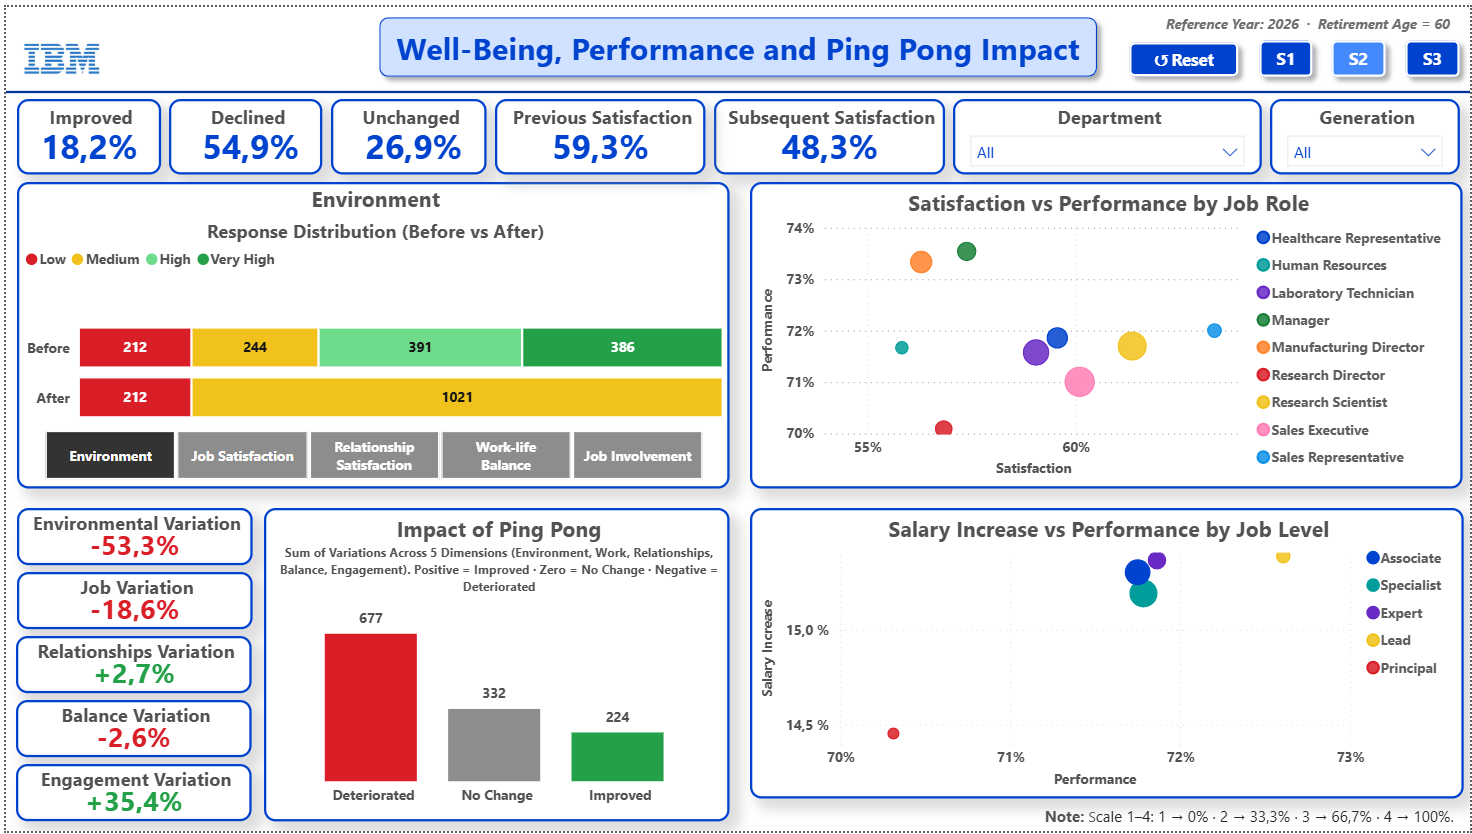

The dashboard page shown, as its layout file describes it:
{"tool":"powerbi","page":{"name":"Well-Being & Ping Pong","canvas":[1280,720],"ordinal":1},"visuals":[{"type":"actionButton","title":"S1","box":[1086.7,20,64.4,50],"z":0},{"type":"actionButton","title":"S1","box":[1150,20,65.6,50],"z":1000},{"type":"actionButton","title":"S1","box":[1214.4,20,65.6,50],"z":2000},{"type":"shape","box":[0,68,1280,12.2],"z":3000},{"type":"image","box":[8.9,5.6,80,80],"z":4000},{"type":"shape","box":[317.2,0,645.6,70],"z":5000},{"type":"actionButton","box":[973.3,22.2,113.3,47.8],"z":6000},{"type":"textbox","box":[996.7,0,283.3,28.9],"z":7000},{"type":"card","title":"Subsequent Satisfaction","fields":{"Values":["Medidas.Satisfação Depois %"]},"box":[618.6,80.4,202,66.1],"z":11000},{"type":"card","title":"Improved","fields":{"Values":["Medidas.% Melhoraram"]},"box":[9.5,80,125.8,66],"z":12000},{"type":"card","title":"Declined","fields":{"Values":["Medidas.% Pioraram"]},"box":[142.5,80,134.4,66],"z":13000},{"type":"card","title":"Unchanged","fields":{"Values":["Medidas.% Sem Alteração"]},"box":[284,80,136.3,66],"z":14000},{"type":"slicer","title":"Department","fields":{"Values":["d_department.department_name"]},"box":[827.7,80.4,269.9,66.1],"z":15000},{"type":"slicer","title":"Generation","fields":{"Values":["d_employee.generation"]},"box":[1104.8,80.4,166.3,66.1],"z":16000},{"type":"textbox","box":[903.3,693.3,376.7,26.7],"z":17000},{"type":"hundredPercentStackedBarChart","fields":{"Category":["f_satisfaction_history.survey_type_en"],"Series":["f_satisfaction_history.environment_satisfaction_label"],"Y":["Medidas.Respostas Ping Pong"]},"box":[9.2,153.3,623.4,267.8],"z":18000},{"type":"slicer","fields":{"Values":["Métrica.Métrica"]},"box":[8.3,363.9,624.3,51.7],"z":19000},{"type":"card","title":"Environmental Variation","fields":{"Values":["_Measures.Delta Ambiente % 2"]},"box":[9.7,437.9,206,50],"z":20000},{"type":"card","title":"Job Variation","fields":{"Values":["_Measures.Delta Trabalho % 2"]},"box":[9.7,494,206,50],"z":21000},{"type":"card","title":"Relationships Variation","fields":{"Values":["_Measures.Delta Relações % 2"]},"box":[8.6,550.1,206,50],"z":22000},{"type":"card","title":"Balance Variation","fields":{"Values":["_Measures.Delta WLB % 2"]},"box":[8.6,606.2,206,50],"z":23000},{"type":"card","title":"Engagement Variation","fields":{"Values":["_Measures.Delta Envolvimento % 2"]},"box":[8.6,662.3,206,50],"z":24000},{"type":"scatterChart","title":"Satisfaction vs Performance by Job Role","fields":{"Category":["d_job_role.job_role_name"],"Series":["d_job_role.job_role_name"],"Size":["Medidas.Total Ativos"],"X":["Medidas.Satisfação Média %"],"Y":["Medidas.Performance Média %"]},"box":[650.2,153.3,623.4,267.8],"z":25000},{"type":"clusteredColumnChart","title":"Impact of Ping Pong","fields":{"Category":["vw_pingpong_improvements.improvement_status"],"Y":["Count(vw_pingpong_improvements.employee_number)"]},"box":[225.5,437.9,407.2,273.9],"z":26000},{"type":"card","title":"Previous Satisfaction","fields":{"Values":["Medidas.Satisfação Antes %"]},"box":[427.4,80.4,184.1,66.1],"z":28000},{"type":"scatterChart","title":"Salary Increase vs Performance by Job Level","fields":{"Series":["d_job_role.job_level_label"],"Size":["Medidas.Total Ativos"],"X":["Medidas.Performance Média %"],"Y":["Medidas.Aumento Salarial Médio"]},"box":[650.7,437.9,623.6,254],"z":29000}]}

Visuals, with their boxes in screenshot pixels (x1, y1, x2, y2), scaled from the page's 1280x720 canvas onto the 1472x834 screenshot:
"S1" actionButton: pyautogui.locateOnScreen(1250, 23, 1324, 81)
"S1" actionButton: pyautogui.locateOnScreen(1322, 23, 1398, 81)
"S1" actionButton: pyautogui.locateOnScreen(1397, 23, 1471, 81)
shape: pyautogui.locateOnScreen(0, 79, 1471, 93)
image: pyautogui.locateOnScreen(10, 6, 102, 99)
shape: pyautogui.locateOnScreen(365, 0, 1107, 81)
actionButton: pyautogui.locateOnScreen(1119, 26, 1250, 81)
textbox: pyautogui.locateOnScreen(1146, 0, 1471, 33)
"Subsequent Satisfaction" card: pyautogui.locateOnScreen(711, 93, 944, 170)
"Improved" card: pyautogui.locateOnScreen(11, 93, 156, 169)
"Declined" card: pyautogui.locateOnScreen(164, 93, 318, 169)
"Unchanged" card: pyautogui.locateOnScreen(327, 93, 483, 169)
"Department" slicer: pyautogui.locateOnScreen(952, 93, 1262, 170)
"Generation" slicer: pyautogui.locateOnScreen(1271, 93, 1462, 170)
textbox: pyautogui.locateOnScreen(1039, 803, 1471, 833)
hundredPercentStackedBarChart - f_satisfaction_history.survey_type_en x f_satisfaction_history.environment_satisfaction_label: pyautogui.locateOnScreen(11, 178, 727, 488)
slicer - Métrica.Métrica: pyautogui.locateOnScreen(10, 422, 727, 481)
"Environmental Variation" card: pyautogui.locateOnScreen(11, 507, 248, 565)
"Job Variation" card: pyautogui.locateOnScreen(11, 572, 248, 630)
"Relationships Variation" card: pyautogui.locateOnScreen(10, 637, 247, 695)
"Balance Variation" card: pyautogui.locateOnScreen(10, 702, 247, 760)
"Engagement Variation" card: pyautogui.locateOnScreen(10, 767, 247, 825)
"Satisfaction vs Performance by Job Role" scatterChart: pyautogui.locateOnScreen(748, 178, 1465, 488)
"Impact of Ping Pong" clusteredColumnChart: pyautogui.locateOnScreen(259, 507, 728, 825)
"Previous Satisfaction" card: pyautogui.locateOnScreen(492, 93, 703, 170)
"Salary Increase vs Performance by Job Level" scatterChart: pyautogui.locateOnScreen(748, 507, 1465, 801)
